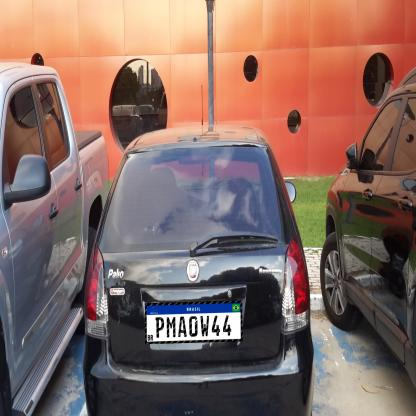PlacaM: (145, 301, 242, 344)
